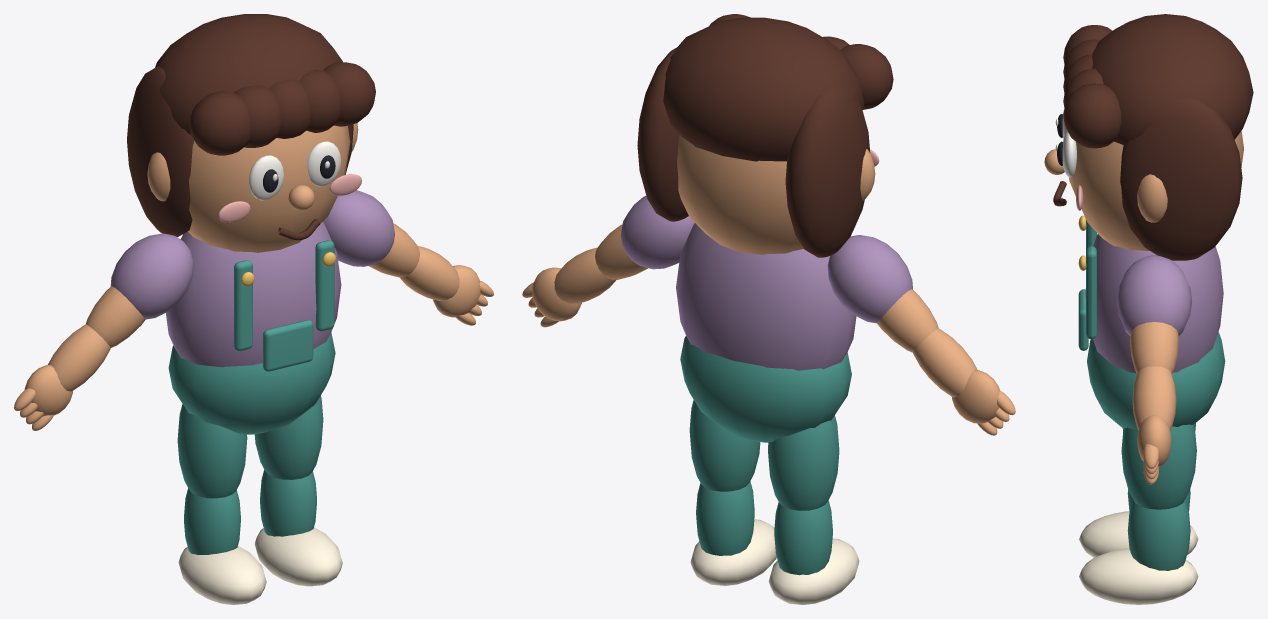
Rendered from mommy-dance.glb.
3 views of the same model, side by side, from view 1: azimuth 30°, elevation 25°; view 2: azimuth 150°, elevation 25°; view 3: azimuth 270°, elevation 25° (orthographic). The views are drawn at different scales.
Parts seen in each view (by area): view 1: soft shirt, clay head, hair cap, overalls, bob hair, shirt sleeve, trouser leg, shirt sleeve.001, little shoe.001, little shoe, trouser leg.001, fringe (+18 smaller); view 2: hair cap, soft shirt, overalls, bob hair, clay head, shirt sleeve, trouser leg, bob hair.001, trouser leg.001, lower leg.001, lower leg, shirt sleeve.001 (+9 smaller); view 3: bob hair.001, hair cap, soft shirt, overalls, clay head, shirt sleeve.001, little shoe.001, trouser leg.001, lower leg.001, fringe.004, forearm.001, upper arm.001 (+12 smaller).
Part boxes in pixels (x1,y1,x2,y2): soft shirt: (166, 222, 341, 367); clay head: (187, 125, 350, 252); hair cap: (155, 14, 342, 134); overalls: (168, 332, 335, 434); bob hair: (127, 66, 194, 236); shirt sleeve: (110, 233, 193, 319); trouser leg: (177, 404, 247, 498); shirt sleeve.001: (323, 190, 394, 266); little shoe.001: (254, 527, 342, 586); little shoe: (178, 546, 266, 604); trouser leg.001: (254, 395, 323, 479); fringe: (189, 91, 250, 155); hair cap: (663, 17, 864, 161); soft shirt: (676, 223, 856, 370); overalls: (680, 336, 851, 442); bob hair: (785, 87, 870, 257); clay head: (677, 135, 803, 254); shirt sleeve: (827, 235, 912, 323); trouser leg: (768, 415, 839, 510); bob hair.001: (637, 47, 688, 221); trouser leg.001: (689, 400, 760, 491); lower leg.001: (696, 481, 754, 555); lower leg: (774, 500, 832, 575); shirt sleeve.001: (620, 196, 694, 269); bob hair.001: (1120, 98, 1242, 260); hair cap: (1092, 14, 1253, 145); soft shirt: (1085, 234, 1223, 373); overalls: (1087, 332, 1225, 429); clay head: (1067, 131, 1243, 251); shirt sleeve.001: (1116, 255, 1192, 335); little shoe.001: (1079, 548, 1198, 604); trouser leg.001: (1121, 424, 1196, 509); lower leg.001: (1127, 499, 1190, 570); fringe.004: (1063, 83, 1121, 148); forearm.001: (1132, 366, 1176, 430); upper arm.001: (1130, 322, 1178, 373).
Size of the model in its own units: 1.94 by 2.14 by 0.7315.
